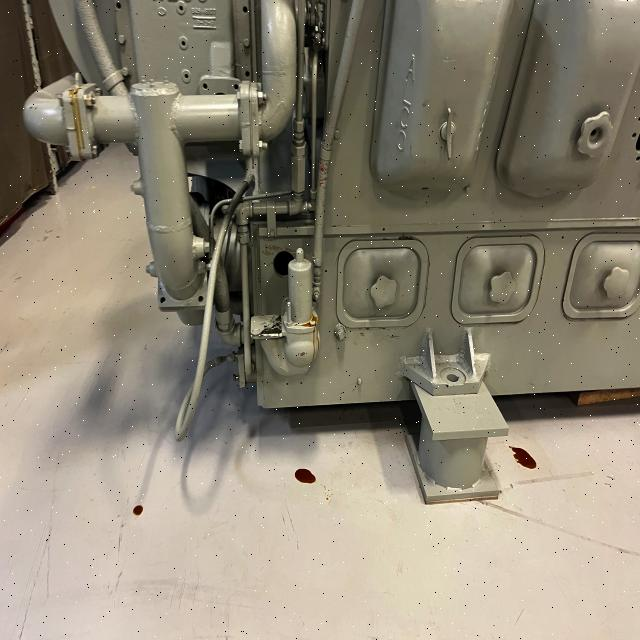Oil Leak: (291, 310, 320, 364), (69, 87, 87, 151), (511, 447, 536, 469), (295, 469, 316, 483), (133, 505, 143, 515)
